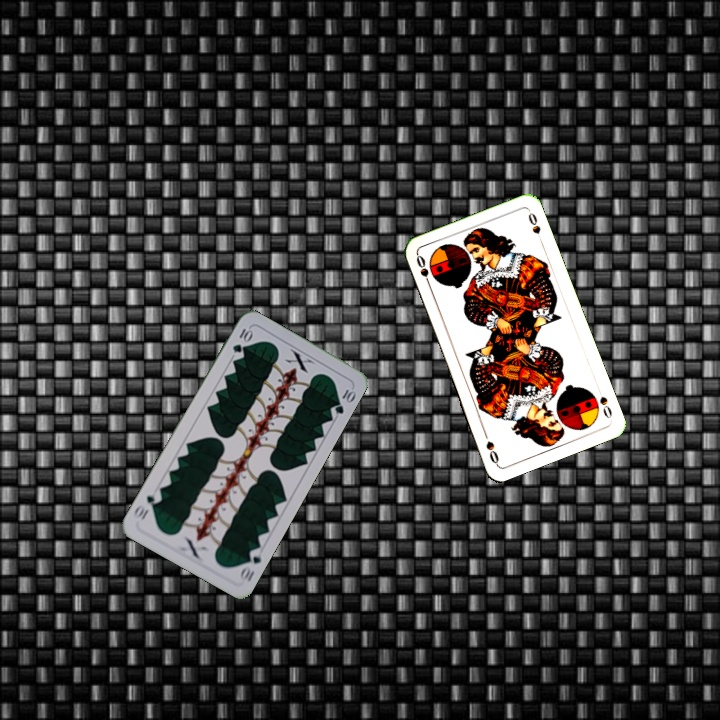G10: (236, 544, 265, 584), (228, 324, 255, 356)
SO: (412, 251, 434, 290), (593, 383, 615, 421)
